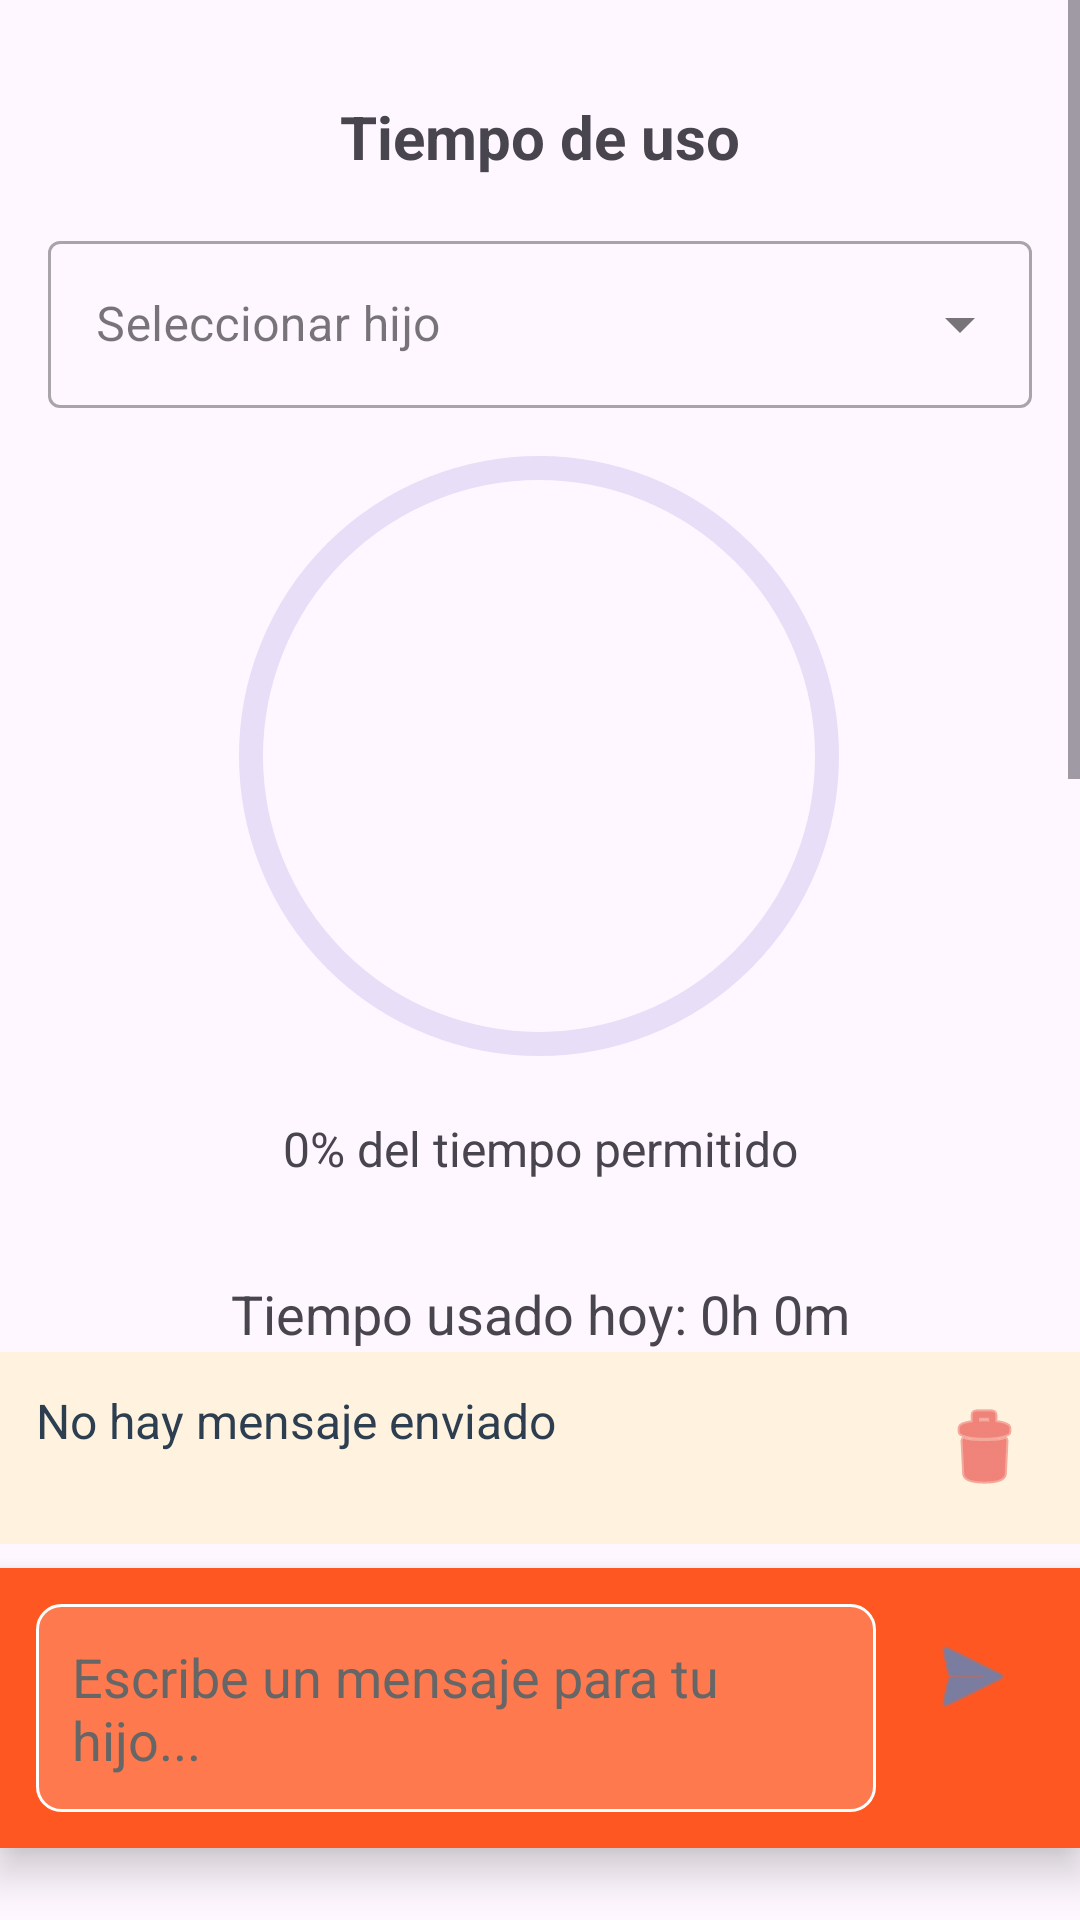

Where to tap for icons on this 1080w x 1920h app screen, as point (x, y):
Eliminar mensaje: point (984, 1446)
Enviar mensaje: point (973, 1676)
